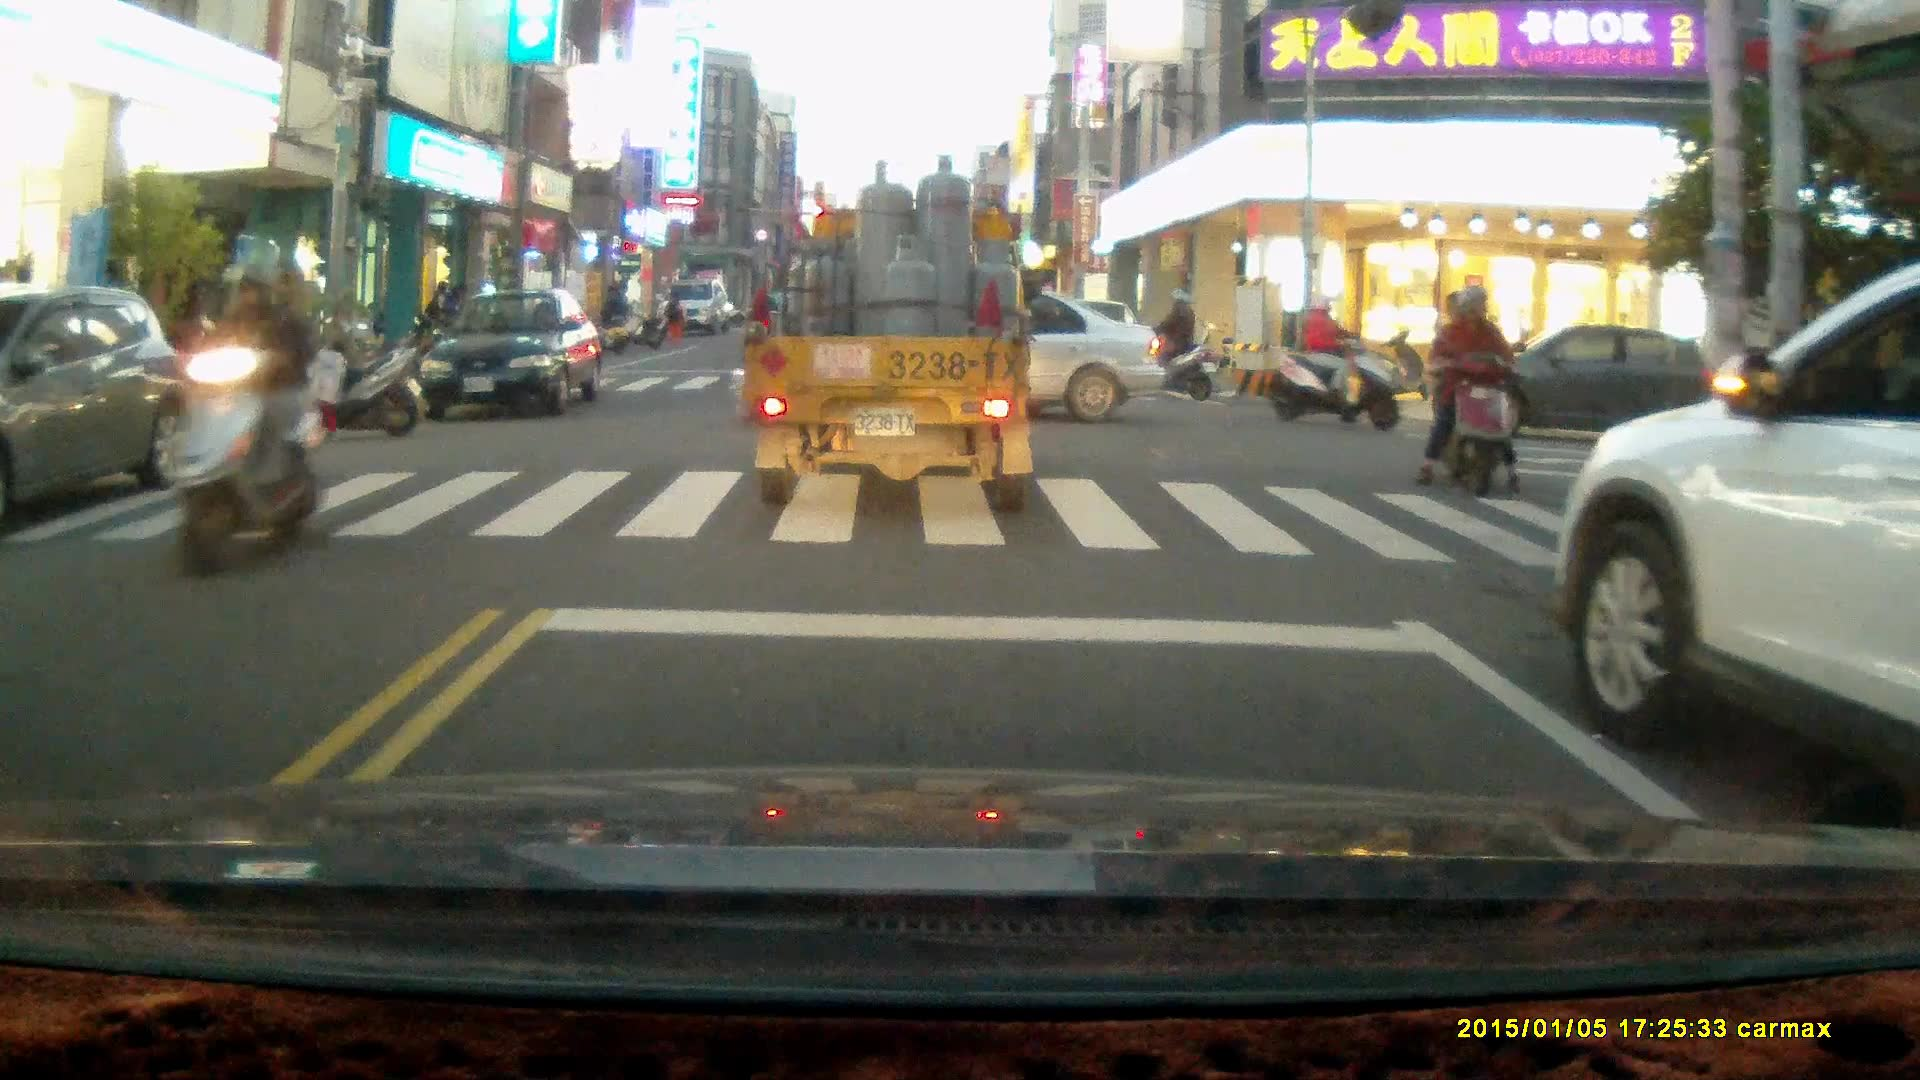pedestrian: (301, 340, 348, 444), (605, 279, 632, 342), (664, 288, 687, 345)
rider: (163, 256, 319, 581), (1415, 285, 1531, 501), (1264, 293, 1401, 429), (1120, 284, 1215, 403)
vehicle: (1550, 263, 1920, 794), (747, 152, 1036, 526), (1456, 324, 1720, 438), (419, 292, 606, 418), (659, 282, 731, 336)
